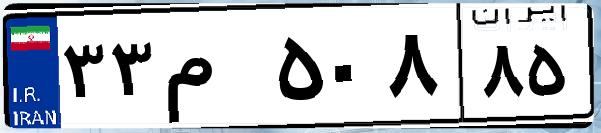0: (330, 28, 385, 110)
3: (57, 26, 110, 100), (110, 28, 158, 98)
5: (270, 28, 330, 110), (525, 38, 570, 115)
8: (385, 28, 445, 110), (475, 38, 525, 113)
م: (158, 20, 270, 120)
